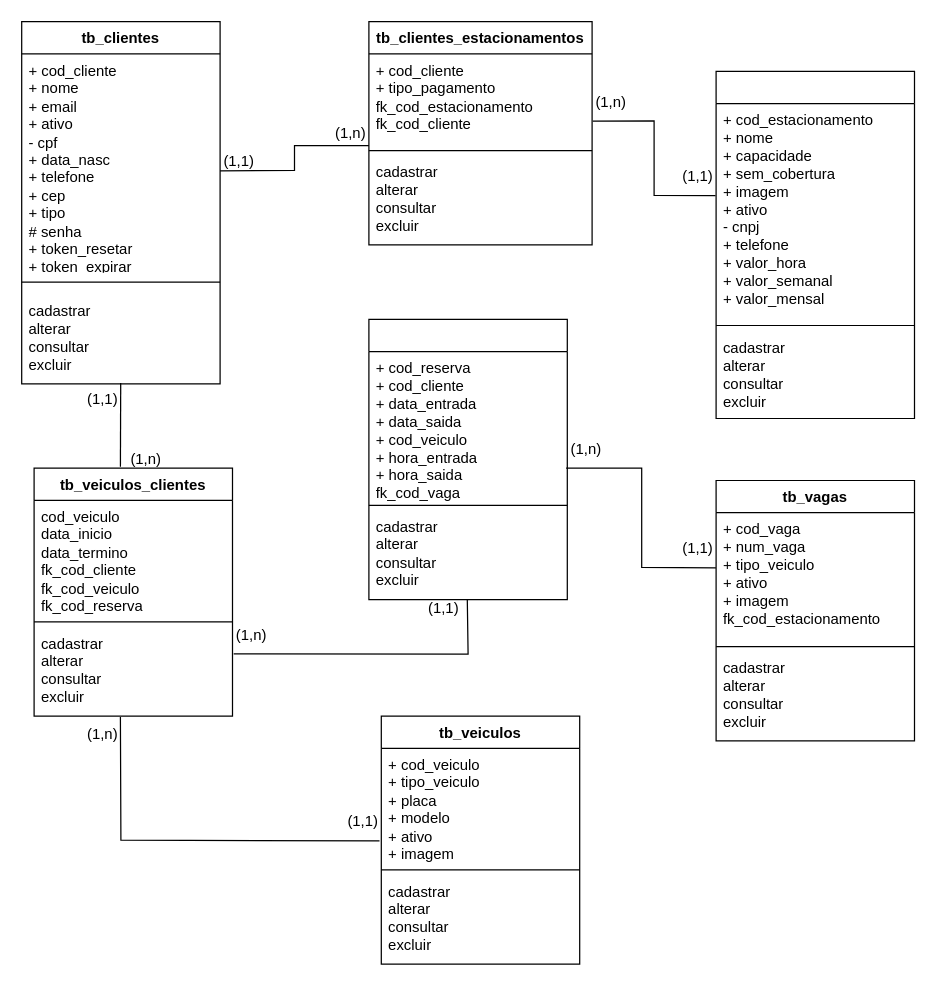
Image size: 936x990. Some labels were removed from this diagram. The shapes that lost their labels are listed below. From the top down, each one's box as (x1, y1, x2, y2) in pixels, then its label:
(715, 70, 914, 418): tb_estacionamentos
(368, 318, 567, 600): tb_reservas
